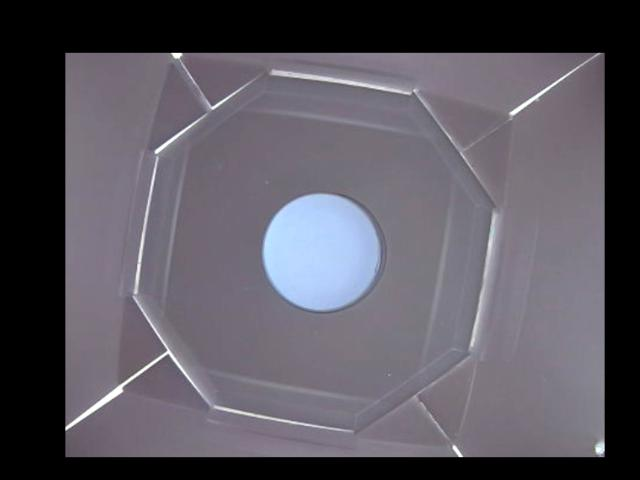Cup: (261, 191, 383, 311)
